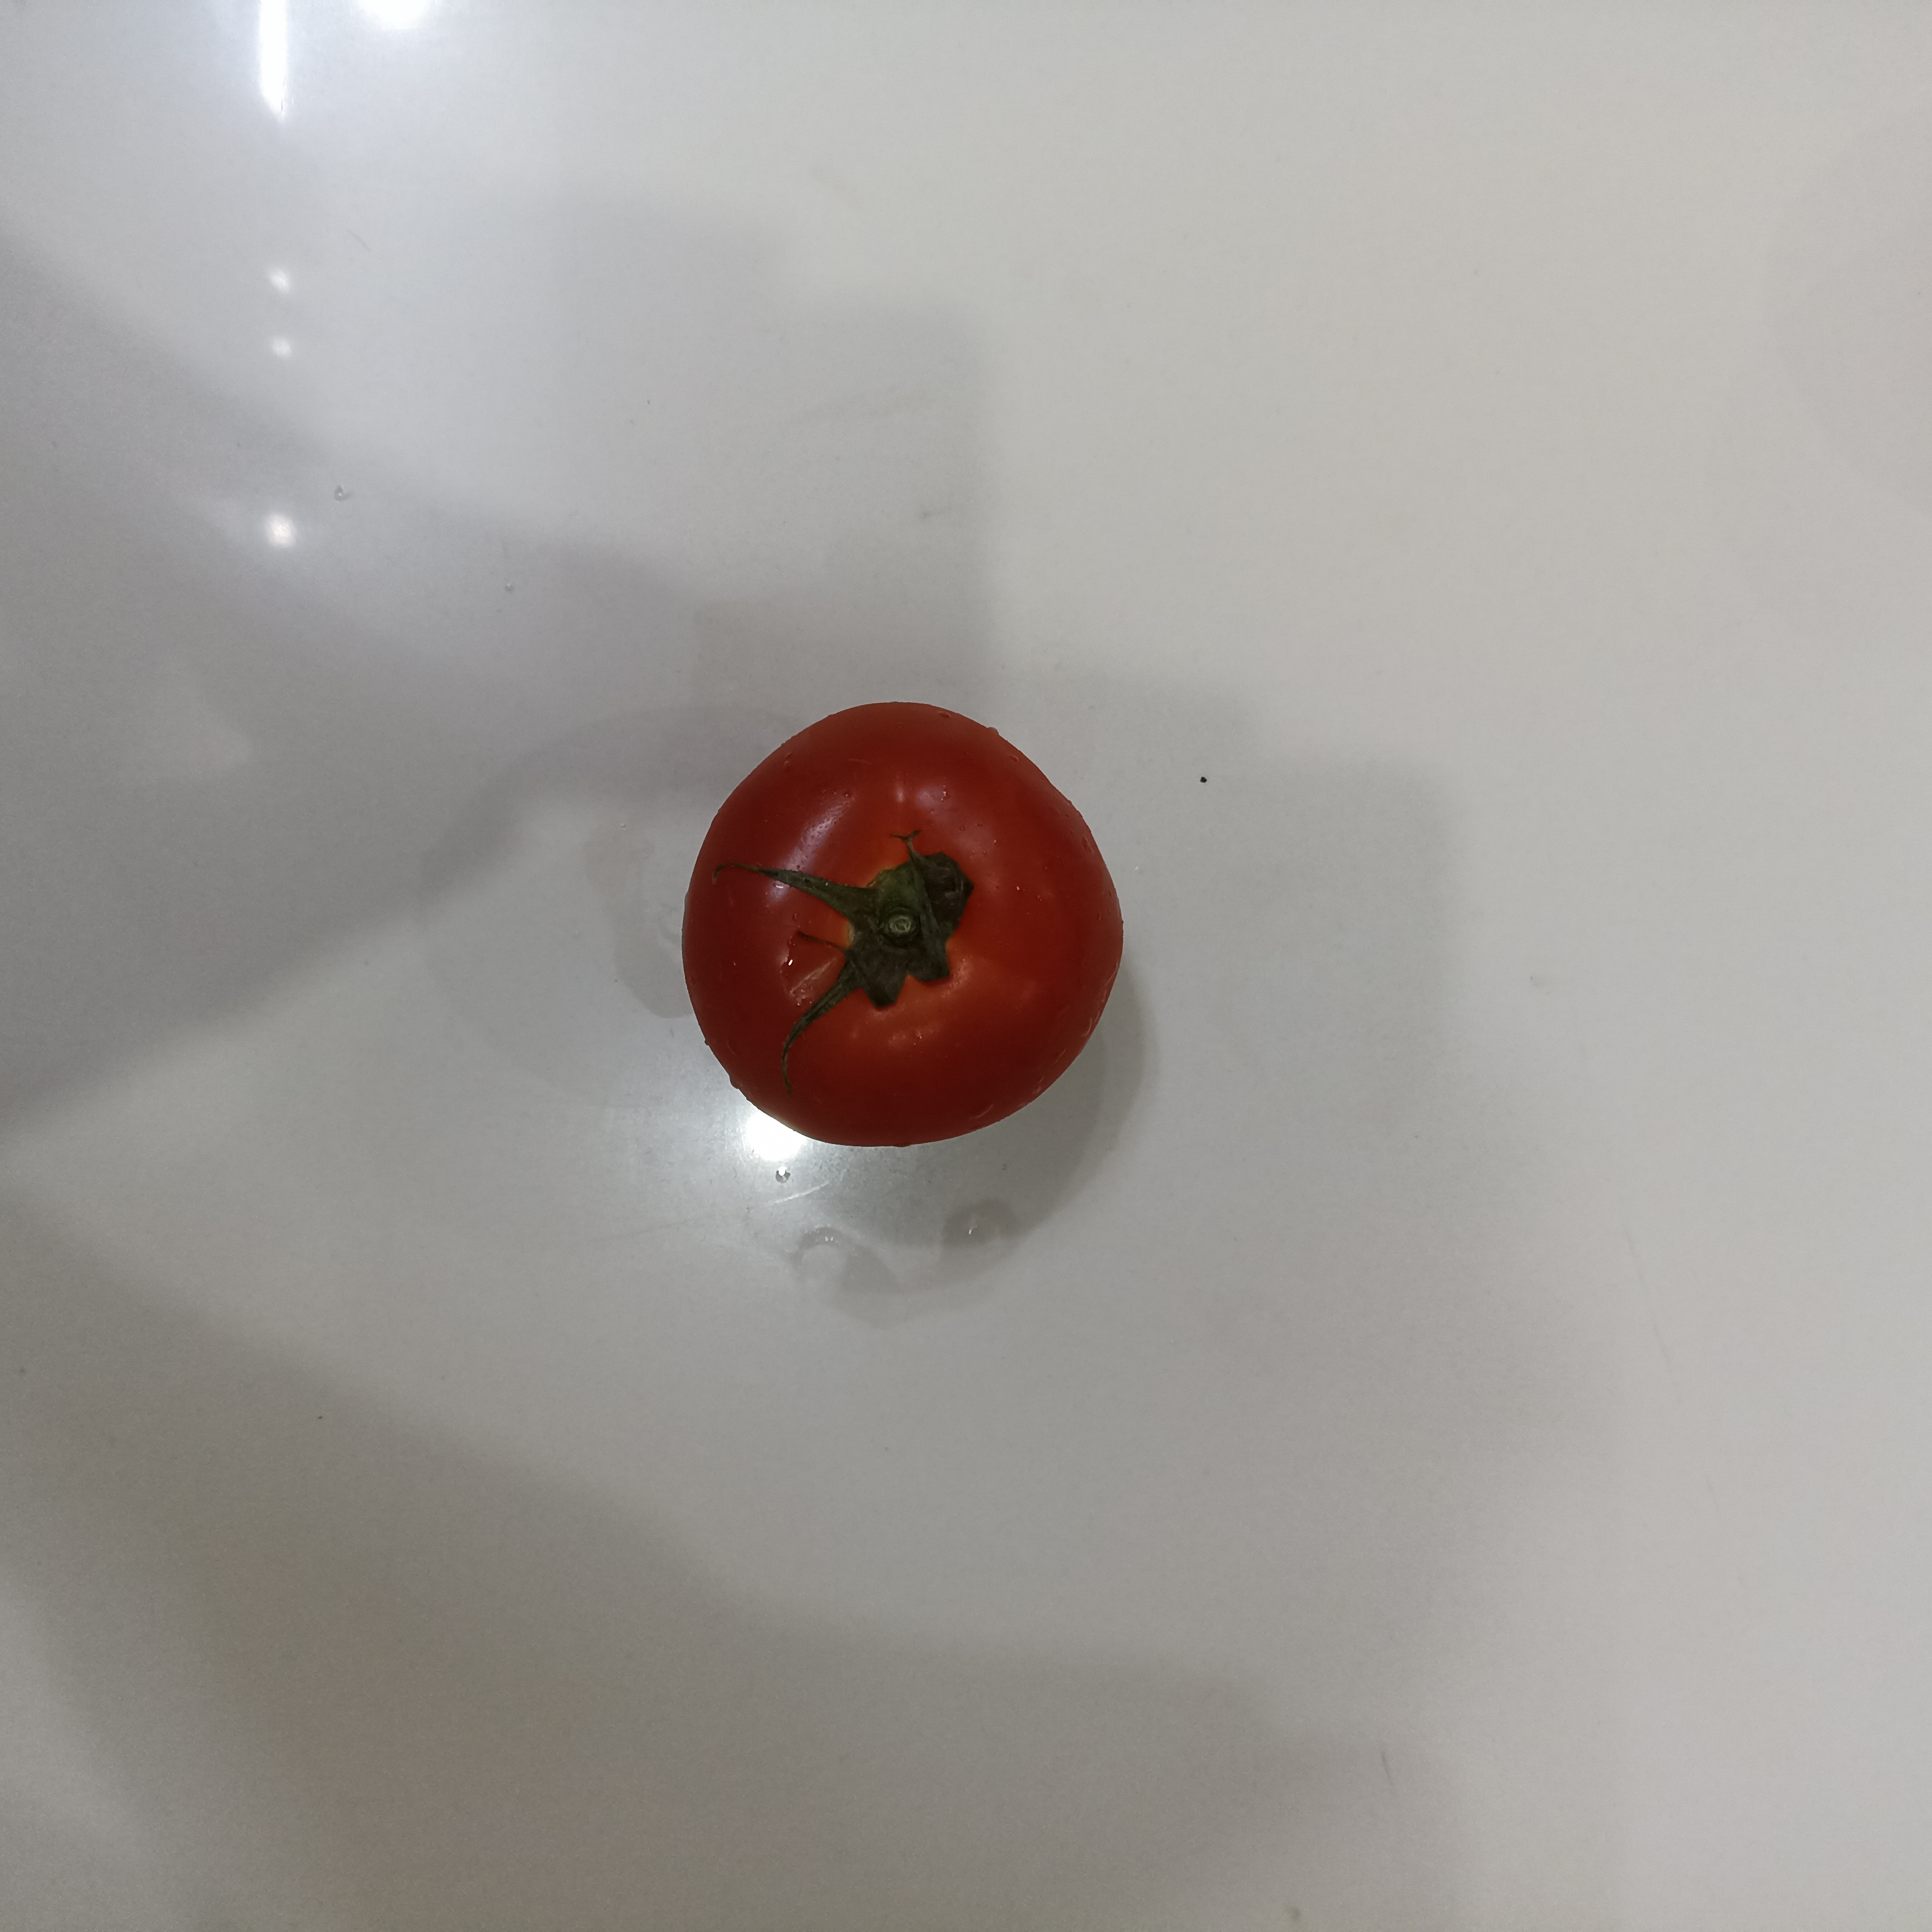Ca chua: (682, 701, 1122, 1148)
